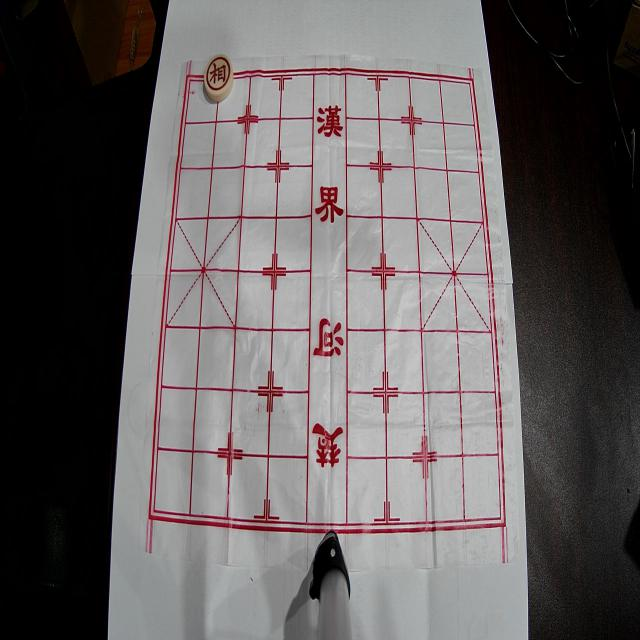red-elephant: (204, 54, 234, 102)
